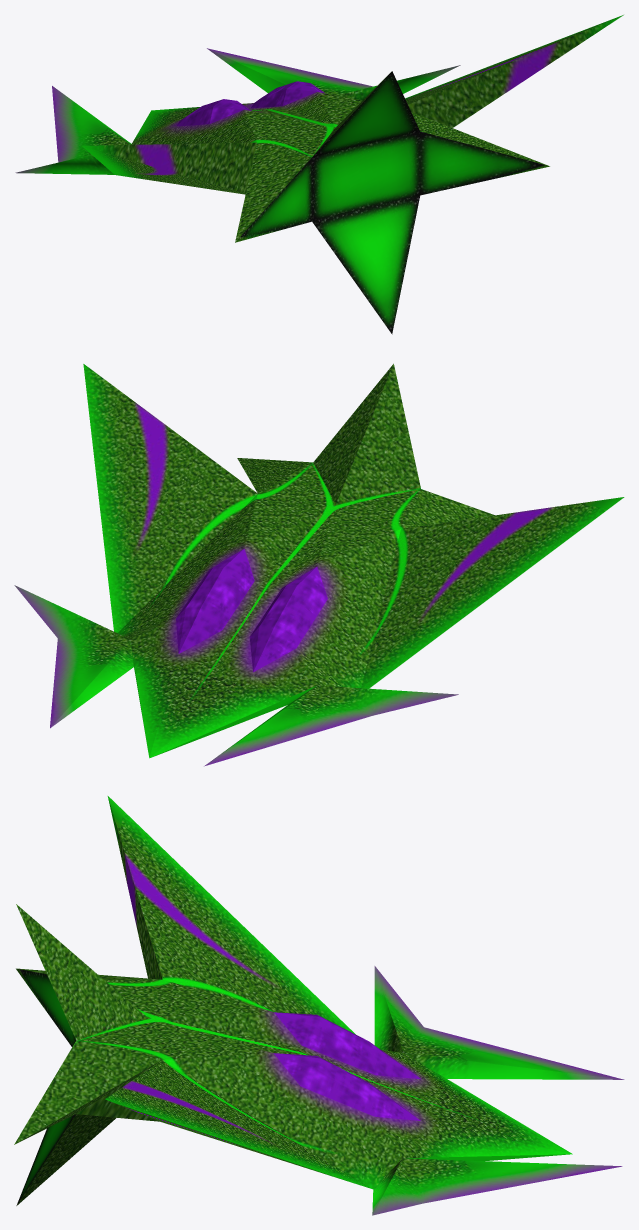
File: enemy3.fbx
The picture shows the model from 3 angles, top to bottom: view 1: azimuth 30°, elevation 25°; view 2: azimuth 150°, elevation 25°; view 3: azimuth 270°, elevation 25°; orthographic projection. The views are drawn at different scales.
Visible parts, largest first — view 1: pCube2; view 2: pCube2; view 3: pCube2.
Boxes of the visible parts, x1=… form: pCube2: x1=15, y1=15, x2=623, y2=334; pCube2: x1=14, y1=363, x2=624, y2=766; pCube2: x1=14, y1=796, x2=624, y2=1215.
Size of the model in its own units: 34.38 by 15.98 by 29.21.
